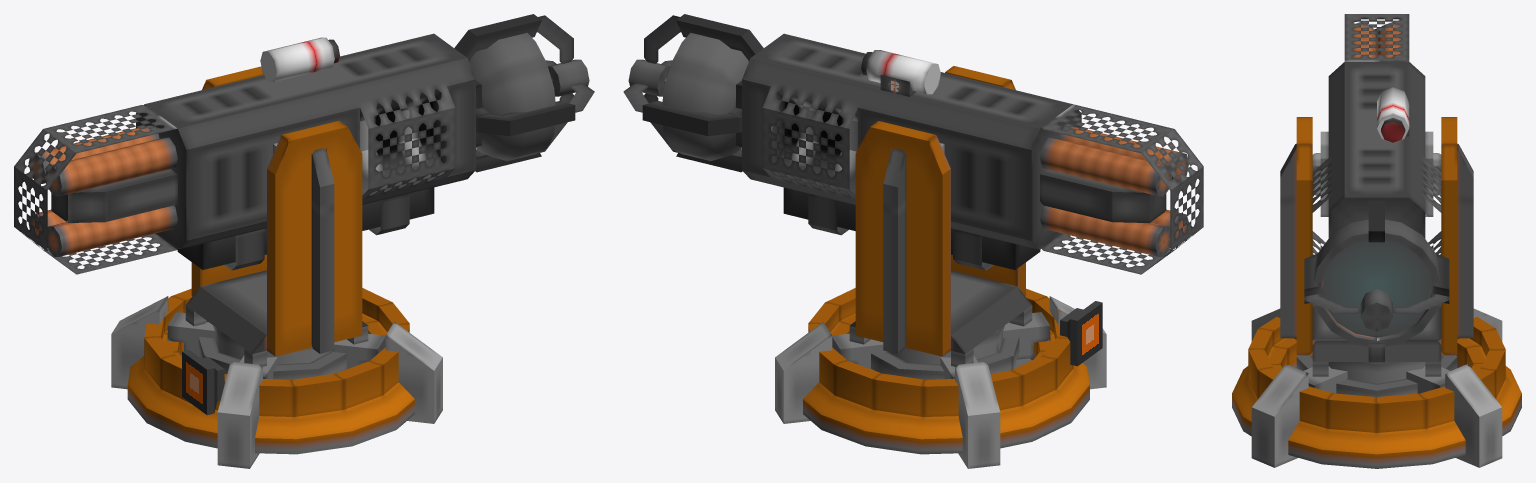
File: turret_microwave.obj
The picture shows the model from 3 angles, left to right: view 1: azimuth 30°, elevation 25°; view 2: azimuth 150°, elevation 25°; view 3: azimuth 270°, elevation 25°; orthographic projection. The views are drawn at different scales.
Parts seen in each view (by area): view 1: Microwave, Carriage, Base, Connectors; view 2: Microwave, Carriage, Base, Connectors; view 3: Microwave, Base, Carriage.
Part boxes in pixels (<box>): Microwave: <box>14,14,594,274</box>; Carriage: <box>167,66,385,379</box>; Base: <box>111,288,442,468</box>; Connectors: <box>182,350,224,415</box>; Microwave: <box>623,14,1203,274</box>; Carriage: <box>832,66,1050,379</box>; Base: <box>775,288,1106,468</box>; Connectors: <box>1060,301,1102,366</box>; Microwave: <box>1304,14,1449,362</box>; Base: <box>1232,308,1521,468</box>; Carriage: <box>1280,117,1473,396</box>.
Bounding box in the file's own units: 4.75 × 2.81 × 2.25.
